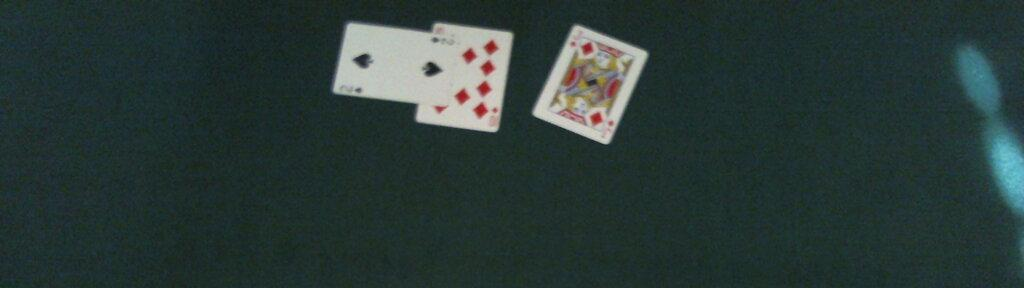jack: (532, 24, 647, 144)
ten: (413, 22, 515, 133)
two: (331, 21, 457, 105)
